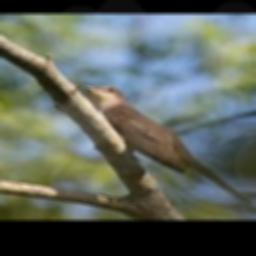Cuckoo: (80, 85, 251, 206)
